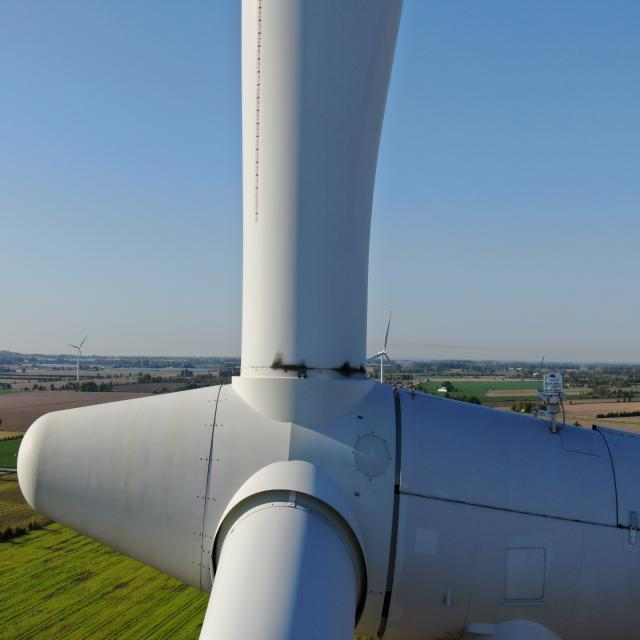damage: (271, 345, 311, 383), (332, 353, 368, 383)
